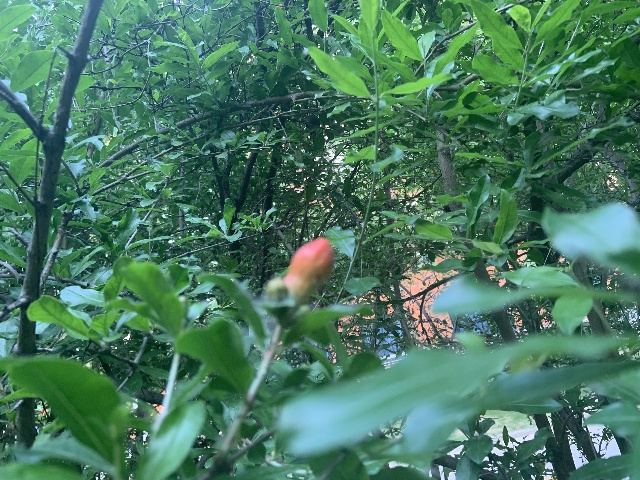bud: (281, 237, 334, 294)
